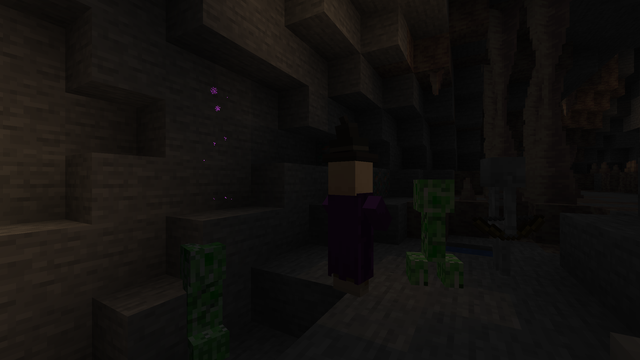creepers: (171, 235, 231, 358), (409, 174, 453, 290)
sorcieres: (322, 154, 375, 302)
squelettes: (480, 156, 525, 280)
